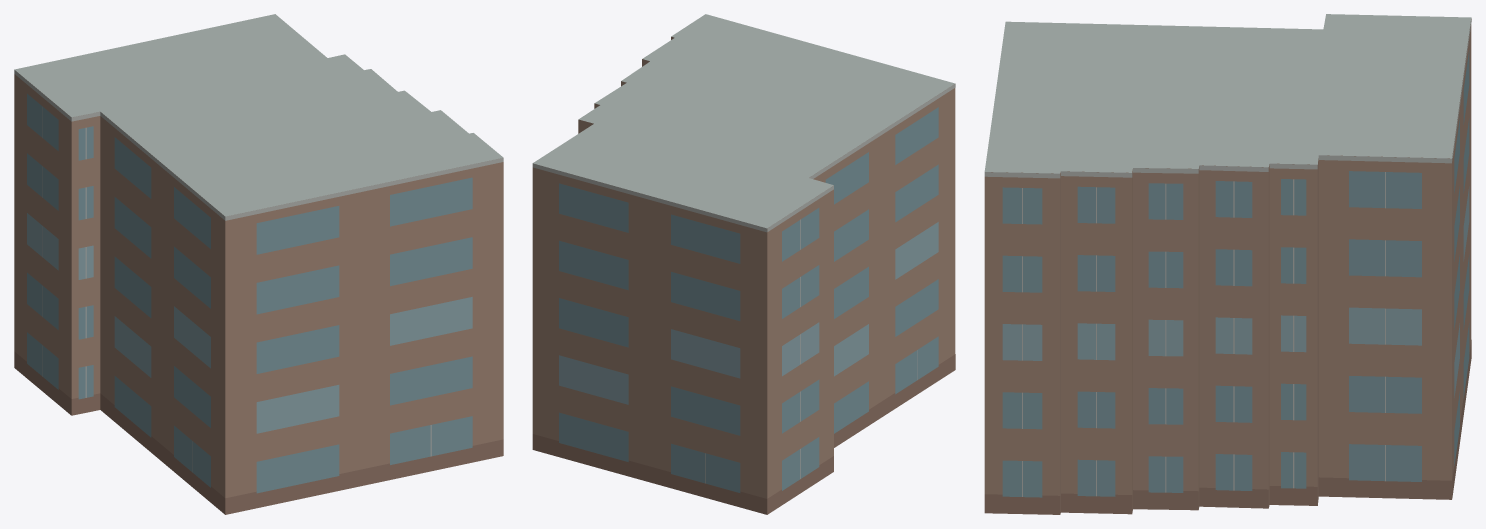
File: survey-upis-32760998.glb
3 renders of one model, left to right at view 1: azimuth 30°, elevation 25°; view 2: azimuth 150°, elevation 25°; view 3: azimuth 270°, elevation 25°, orthographic. The views are drawn at different scales.
Visible parts, largest first — view 1: survey-upis-32760998.tmp; view 2: survey-upis-32760998.tmp; view 3: survey-upis-32760998.tmp.
Part boxes in pixels (x1,y1,x2,y2): survey-upis-32760998.tmp: [14, 14, 503, 514]; survey-upis-32760998.tmp: [532, 14, 955, 514]; survey-upis-32760998.tmp: [984, 14, 1471, 514].
Size of the model in its own units: 17.36 by 17.3 by 22.37.
